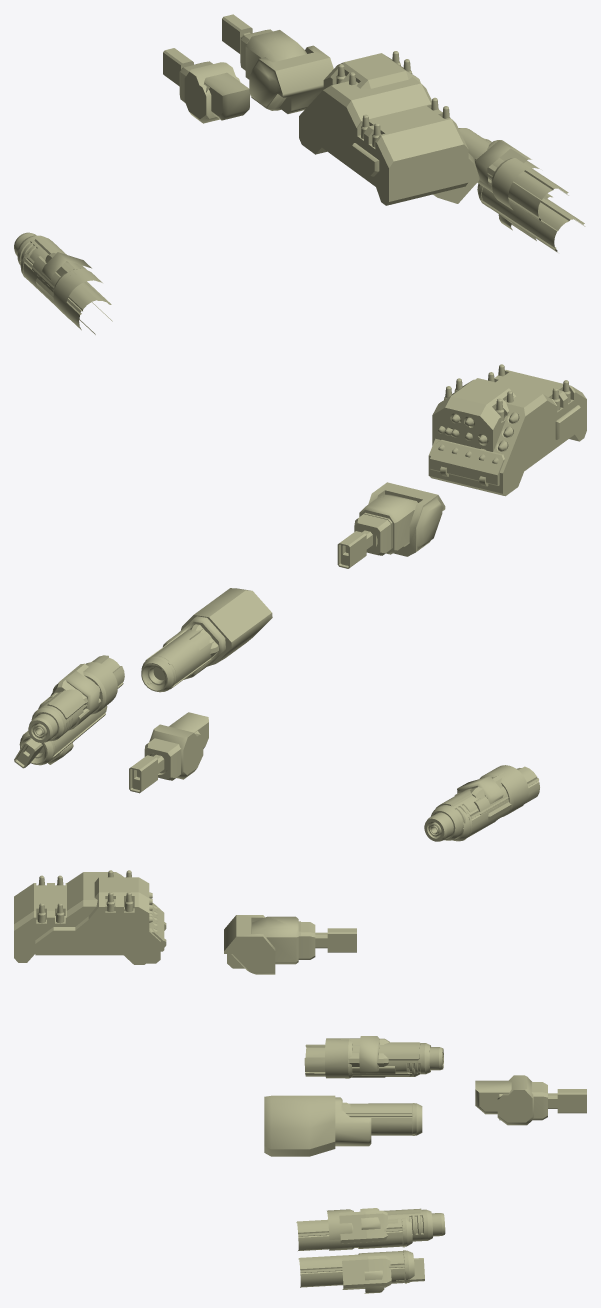
Rendered from CrabWeapons.glb.
The picture shows the model from 3 angles, top to bottom: view 1: azimuth 30°, elevation 25°; view 2: azimuth 150°, elevation 25°; view 3: azimuth 270°, elevation 25°; orthographic projection. The views are drawn at different scales.
Visible parts, largest first — view 1: Torso_Left_MH1_Missile15, Head_EH1_Flamer, Head_EH1_Laser, Torso_Center_EH1_Laser, Forearm_Right_EH2_PPC, Torso_Left_MH1_Missile10, Forearm_Left_BH1_AC10, Forearm_Right_EH1_PPC, Forearm_Left_EH1_PPC, Torso_Left_MH1_Missile20, Torso_Center_EH1_Flamer, Forearm_Right_BH1_AC10; view 2: Torso_Left_MH1_Missile15, Torso_Right_EH1_PPC, Torso_Left_MH1_Missile10, Head_EH1_Laser, Head_EH1_Flamer, Forearm_Right_BH1_AC10, Forearm_Left_BH1_AC10, Torso_Right_EH1_Laser, Torso_Left_MH1_Missile20, Torso_Center_EH1_Flamer, Torso_Center_EH1_Laser, Forearm_Left_EH1_PPC (+2 smaller); view 3: Torso_Left_MH1_Missile10, Torso_Left_MH1_Missile15, Torso_Right_EH1_Flamer, Head_EH1_Laser, Torso_Right_EH1_PPC, Forearm_Left_BH1_AC10, Forearm_Right_EH2_PPC, Torso_Center_EH1_Flamer, Forearm_Right_EH1_PPC, Torso_Left_MH1_Missile2, Forearm_Right_BH1_AC10, Head_EH1_Flamer (+7 smaller).
Part boxes in pixels (x1,y1,x2,y2): Torso_Left_MH1_Missile15: (299,77,468,205); Head_EH1_Flamer: (222,14,333,113); Head_EH1_Laser: (240,29,333,109); Torso_Center_EH1_Laser: (179,61,249,123); Forearm_Right_EH2_PPC: (477,183,585,252); Torso_Left_MH1_Missile10: (323,51,420,89); Forearm_Left_BH1_AC10: (14,232,102,319); Forearm_Right_EH1_PPC: (475,138,568,222); Forearm_Left_EH1_PPC: (20,250,112,334); Torso_Left_MH1_Missile20: (299,98,465,204); Torso_Center_EH1_Flamer: (163,48,222,122); Forearm_Right_BH1_AC10: (458,128,539,209); Torso_Left_MH1_Missile15: (428,364,586,496); Torso_Right_EH1_PPC: (141,588,250,692); Torso_Left_MH1_Missile10: (432,378,515,451); Head_EH1_Laser: (354,487,445,556); Head_EH1_Flamer: (337,482,443,568); Forearm_Right_BH1_AC10: (28,662,117,742); Forearm_Left_BH1_AC10: (424,765,528,841); Torso_Right_EH1_Laser: (181,590,272,663); Torso_Left_MH1_Missile20: (428,365,586,489); Torso_Center_EH1_Flamer: (129,722,208,793); Torso_Center_EH1_Laser: (144,712,208,780); Forearm_Left_EH1_PPC: (452,766,539,841); Torso_Left_MH1_Missile10: (35,870,152,964); Torso_Left_MH1_Missile15: (14,872,166,963); Torso_Right_EH1_Flamer: (264,1095,335,1156); Head_EH1_Laser: (224,915,315,974); Torso_Right_EH1_PPC: (264,1095,422,1147); Forearm_Left_BH1_AC10: (325,1038,443,1078); Forearm_Right_EH2_PPC: (298,1250,414,1293); Torso_Center_EH1_Flamer: (479,1077,586,1125); Forearm_Right_EH1_PPC: (296,1208,412,1250); Torso_Left_MH1_Missile2: (35,913,152,964); Forearm_Right_BH1_AC10: (327,1208,445,1250); Head_EH1_Flamer: (224,915,356,974).
Bounding box in the file's own units: 1.7 × 1.15 × 2.03.
